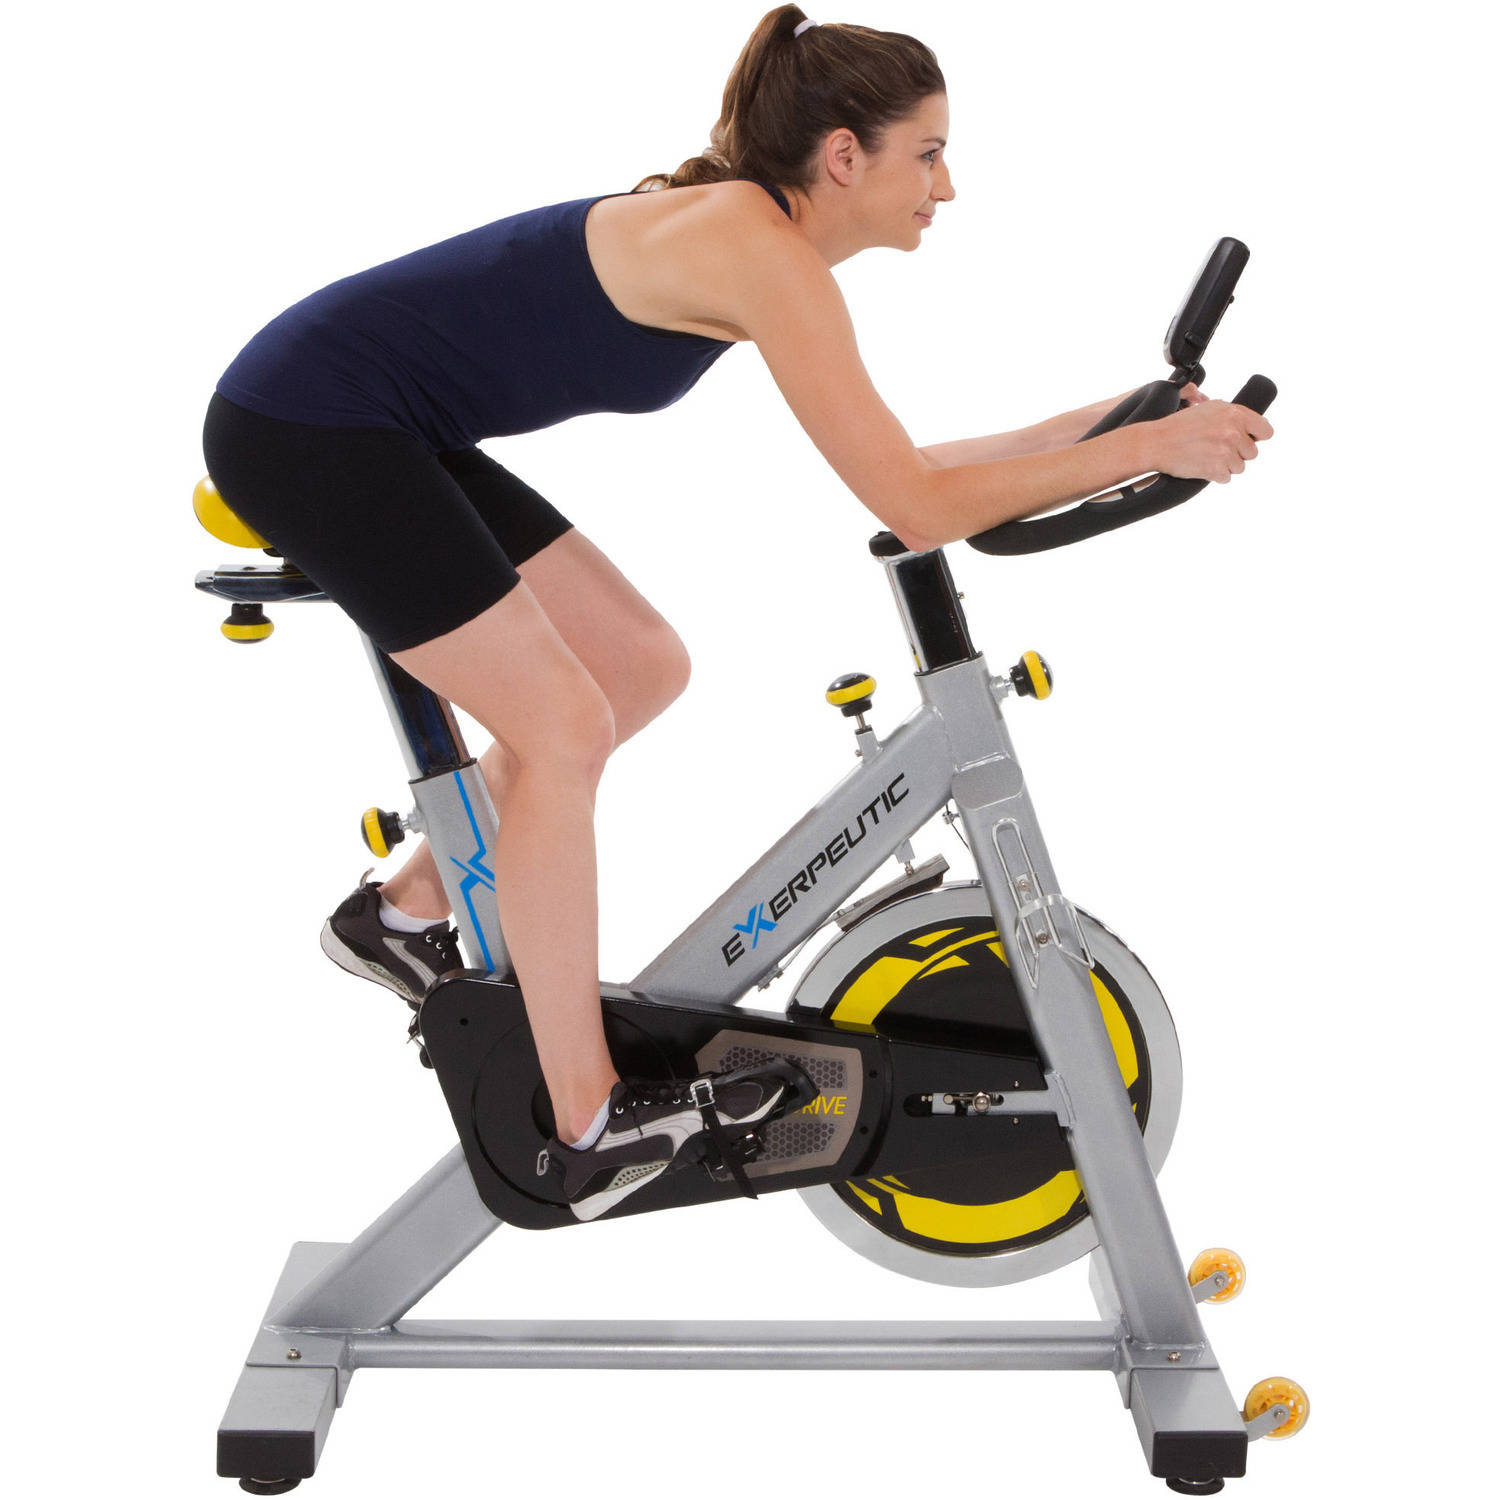gym_bike: (657, 545, 1304, 1490)
